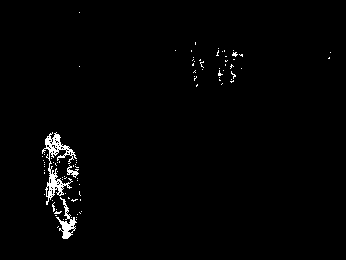person: (40, 131, 83, 238)
